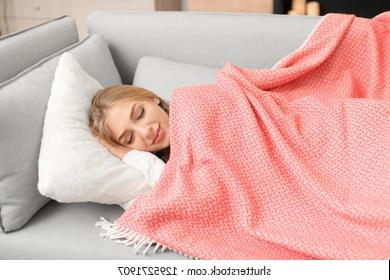blanket: (107, 10, 390, 260)
